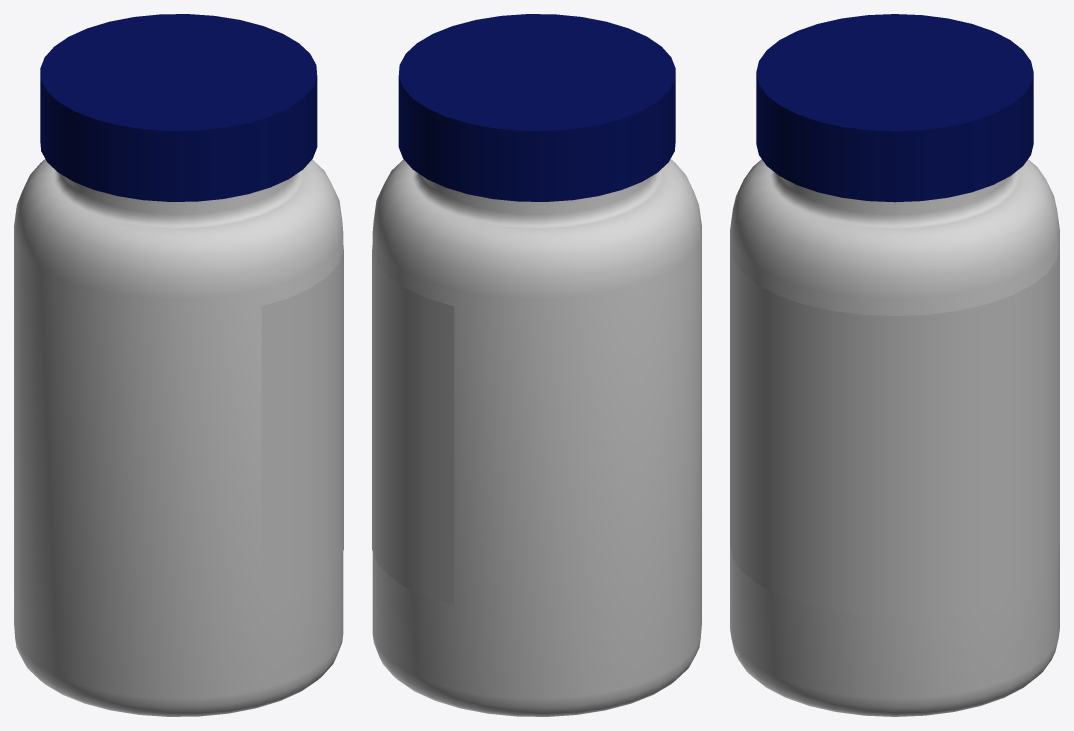
File: kuensan.obj
The picture shows the model from 3 angles, left to right: view 1: azimuth 30°, elevation 25°; view 2: azimuth 150°, elevation 25°; view 3: azimuth 270°, elevation 25°; orthographic projection.
Visible parts, largest first — view 1: 円柱, 円柱.001, 円柱.002; view 2: 円柱, 円柱.001, 円柱.002; view 3: 円柱.002, 円柱, 円柱.001.
Part boxes in pixels (<box>): 円柱: <box>14,159,343,716</box>; 円柱.001: <box>40,14,317,201</box>; 円柱.002: <box>261,245,343,605</box>; 円柱: <box>372,159,701,716</box>; 円柱.001: <box>398,14,675,201</box>; 円柱.002: <box>372,245,454,605</box>; 円柱.002: <box>730,247,1059,614</box>; 円柱: <box>730,159,1059,716</box>; 円柱.001: <box>756,14,1033,202</box>.
Size of the model in its own units: 2 by 3.89 by 2.
